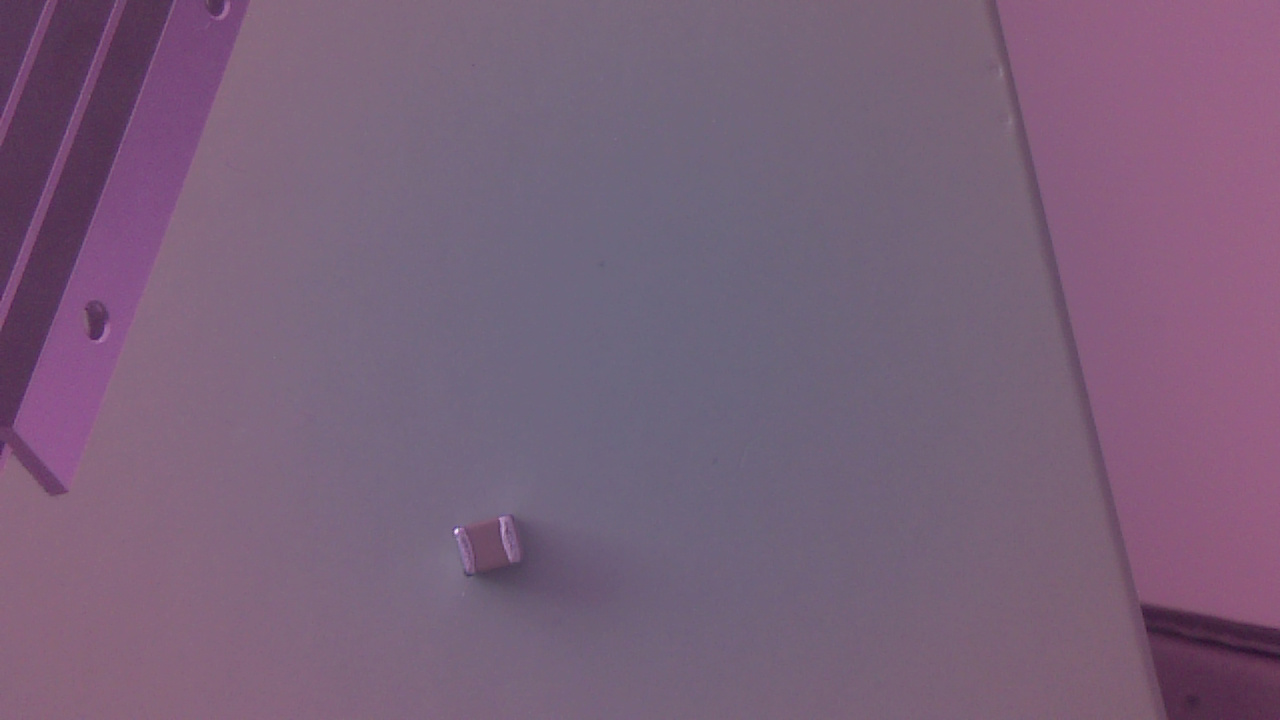Condensator: (452, 513, 539, 587)
